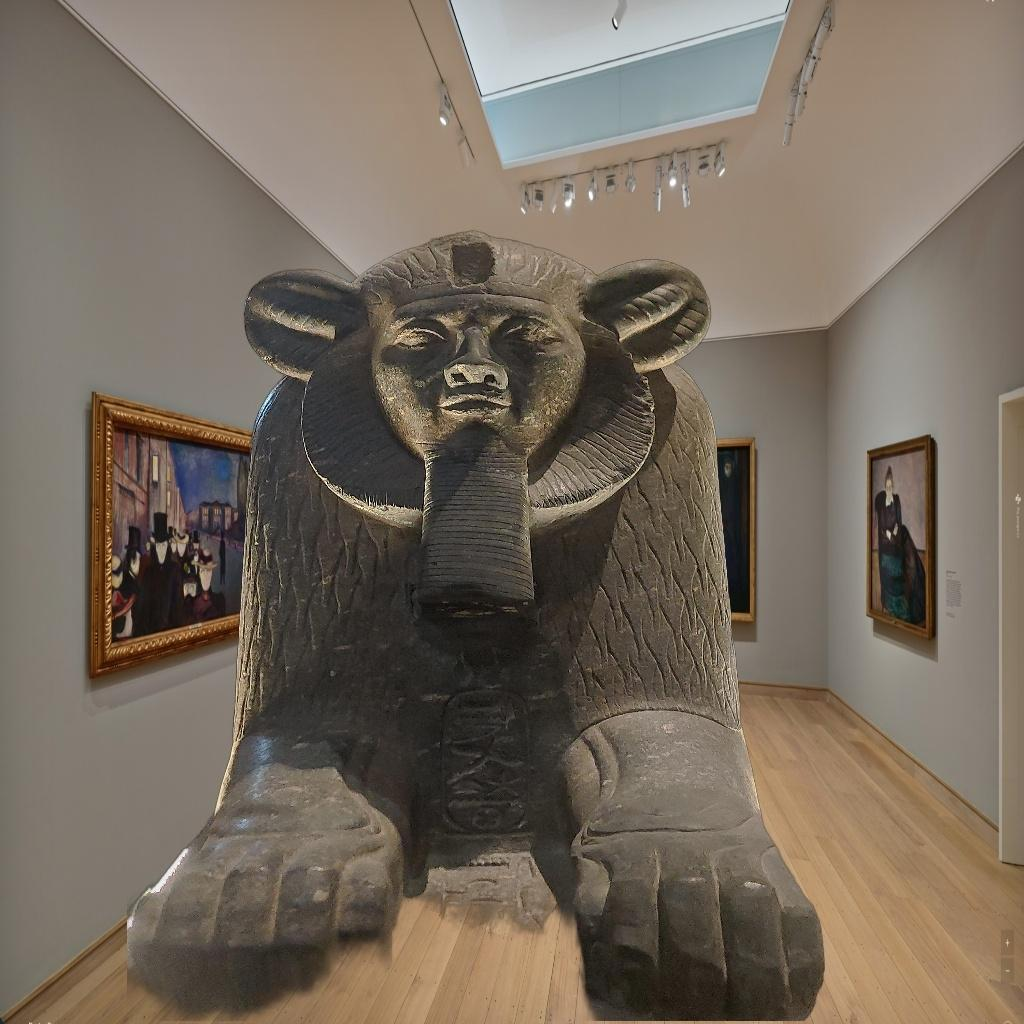Sphinx of Amenmhat III: (127, 228, 830, 1021)
